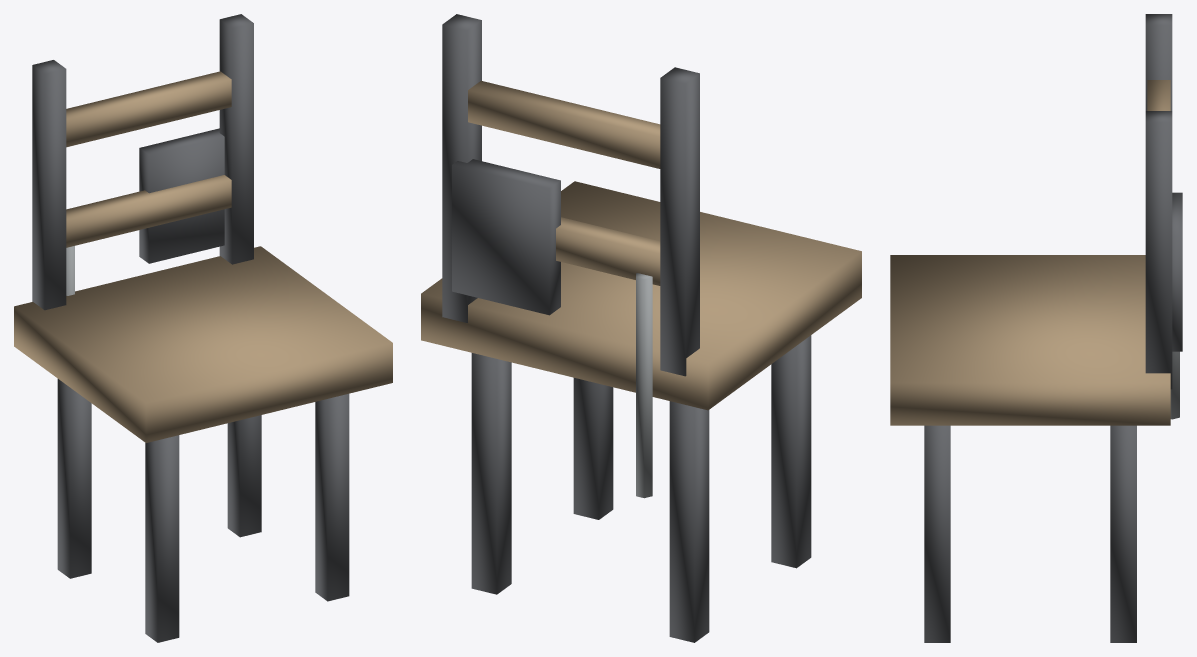
Rendered from dining_chair__service.glb.
The picture shows the model from 3 angles, left to right: view 1: azimuth 30°, elevation 25°; view 2: azimuth 150°, elevation 25°; view 3: azimuth 270°, elevation 25°; orthographic projection. The views are drawn at different scales.
Parts seen in each view (by area): view 1: world; view 2: world; view 3: world.
Part boxes in pixels (box(x1,y1,x2,y2)): world: box(14, 14, 392, 642); world: box(421, 14, 861, 642); world: box(890, 14, 1182, 642).
Size of the model in its own units: 0.5137 by 0.9841 by 0.496.
